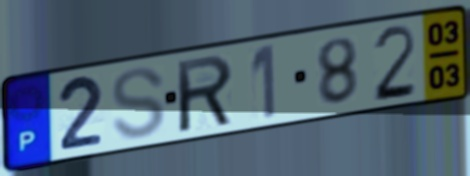1: (246, 41, 278, 124)
2: (55, 72, 108, 155), (370, 23, 417, 104)
8: (313, 35, 361, 106)
R: (174, 51, 236, 136)
S: (108, 65, 168, 142)
